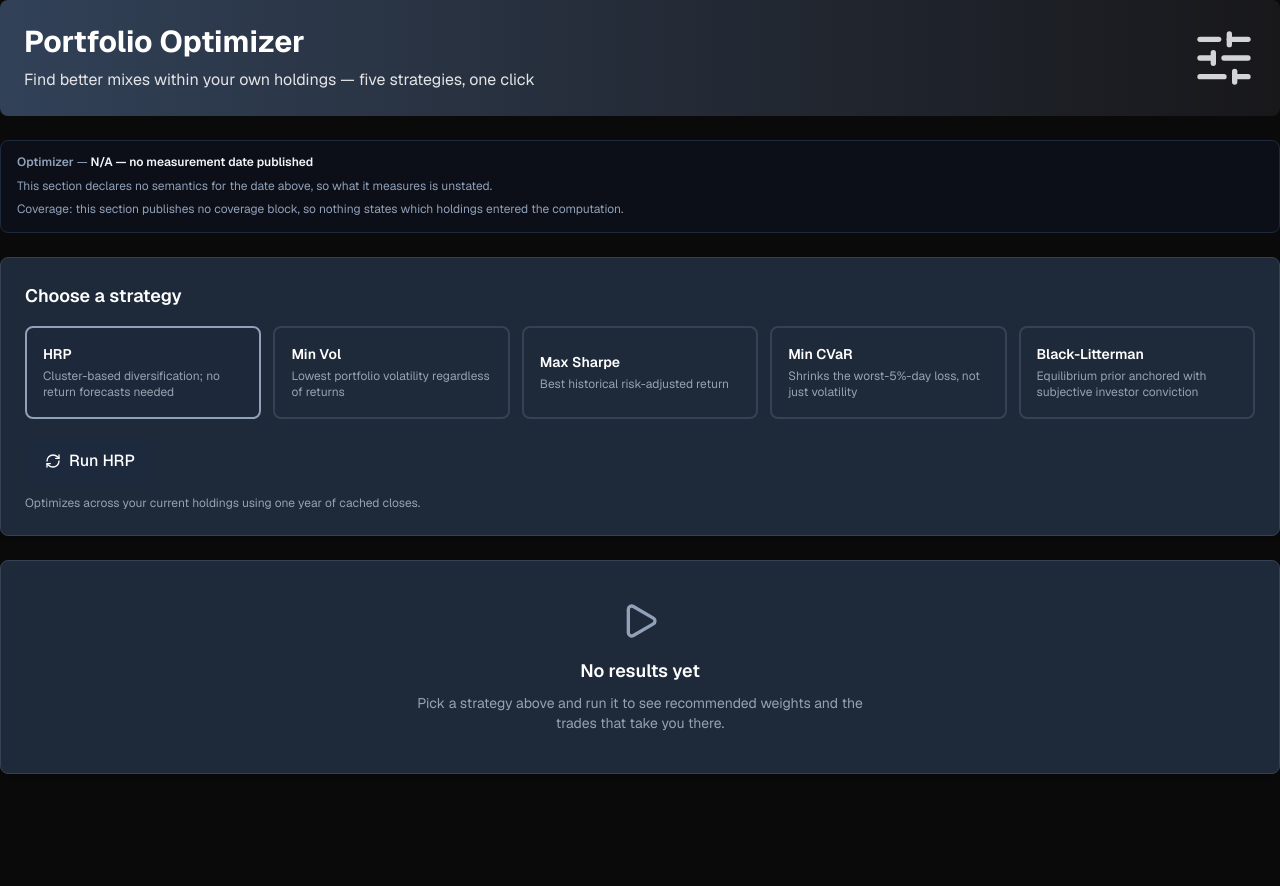
it: fabricated fallbacks — optimize null expected risk/return › shows frontier-empty instead of a fabricated 21-point curve
Click the button "Run HRP": {"x": 90, "y": 460} [25,438,155,482]
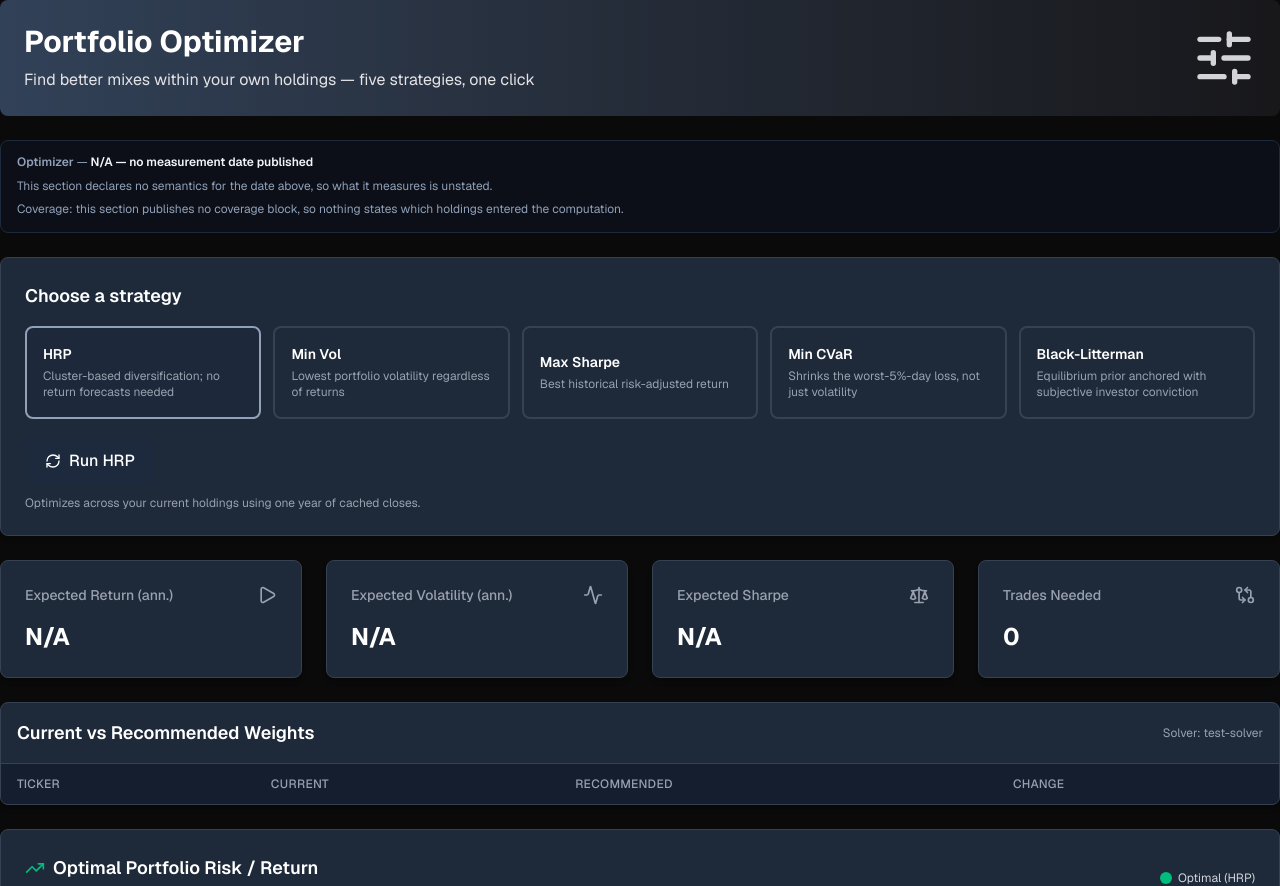
Expected: the text "N/A" below "Expected Return (ann.)" is shown, [25,620,70,652]
